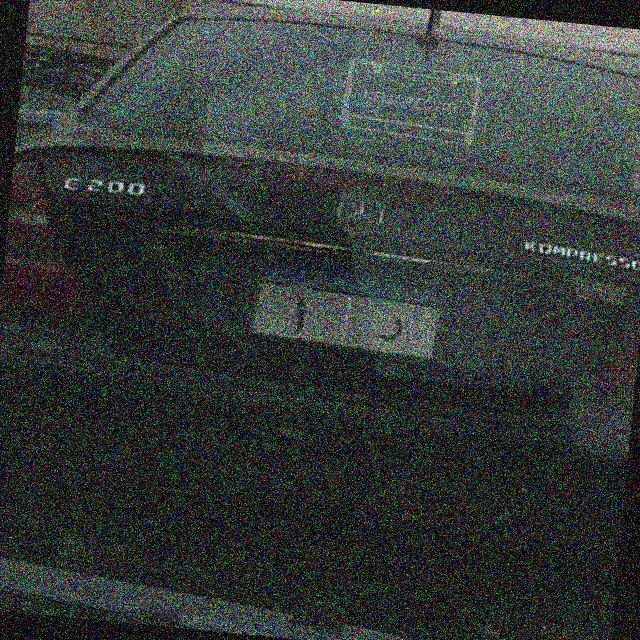License Plate: (245, 242, 452, 365)
